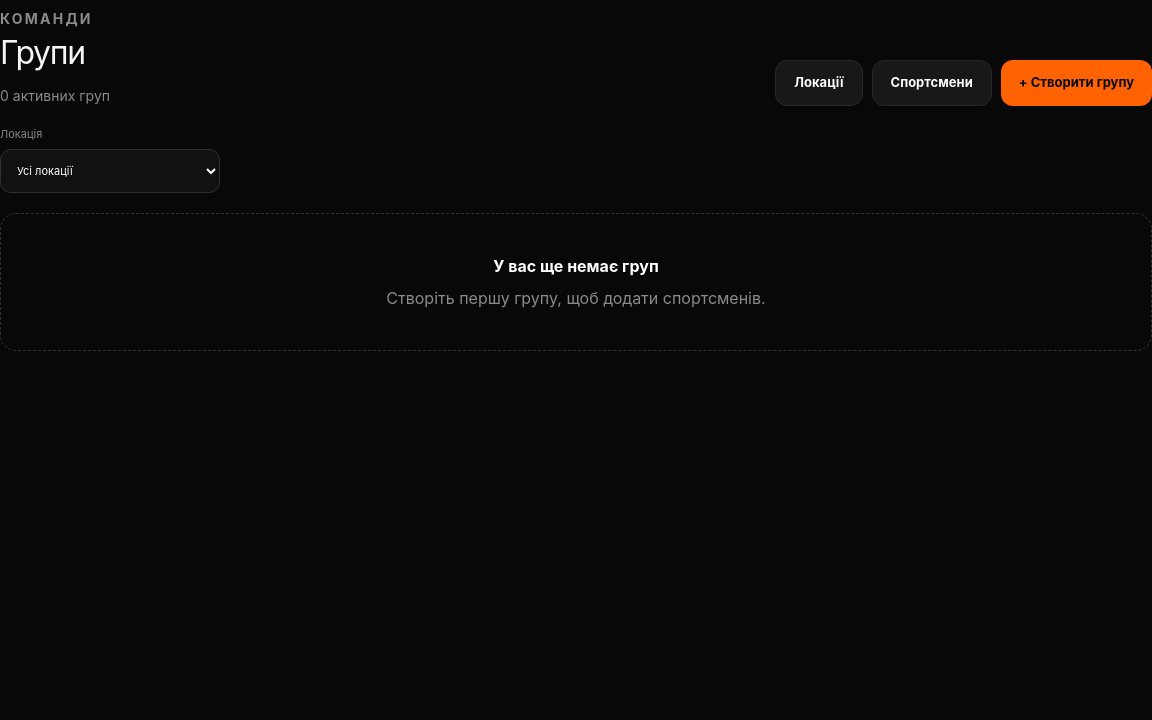
it: GroupManager modal › opens create group as a modal
The image size is (1152, 720).
Click the button "+ Створити групу".
click(1076, 83)  # box x1=1001 y1=60 x2=1151 y2=106
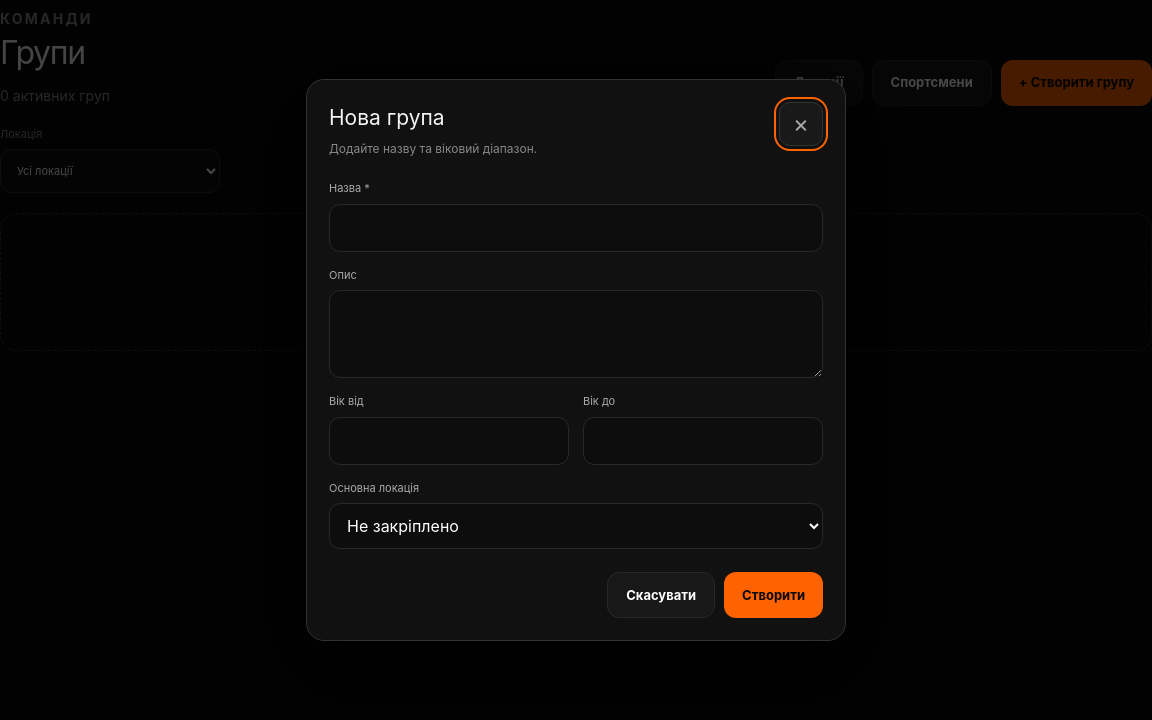
Expected: the dialog "Нова група" is shown, x1=306 y1=79 x2=846 y2=641
